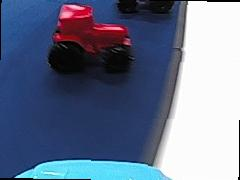Tracktor: (47, 2, 135, 72)
